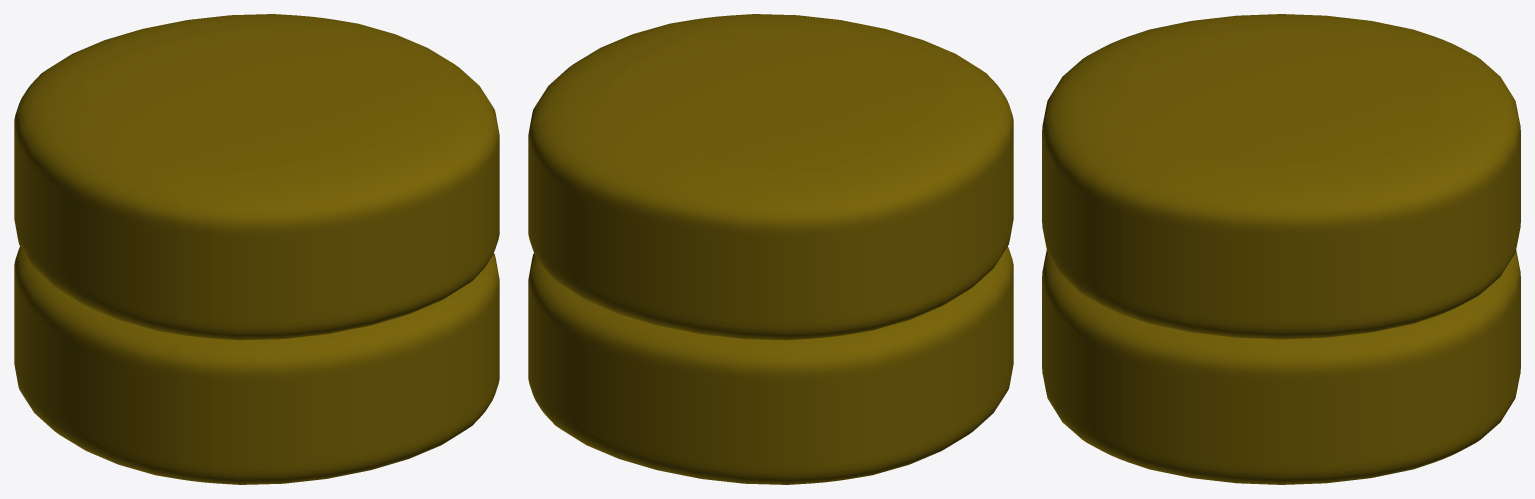
File: nana.glb
The picture shows the model from 3 angles, left to right: view 1: azimuth 30°, elevation 25°; view 2: azimuth 150°, elevation 25°; view 3: azimuth 270°, elevation 25°; orthographic projection.
Visible parts, largest first — view 1: Cube.006; view 2: Cube.006; view 3: Cube.006.
Part boxes in pixels (bbox=[...]): Cube.006: bbox=[14, 14, 499, 484]; Cube.006: bbox=[528, 14, 1013, 484]; Cube.006: bbox=[1042, 14, 1520, 484].
Bounding box in the file's own units: 3.8 × 2.77 × 3.8.
